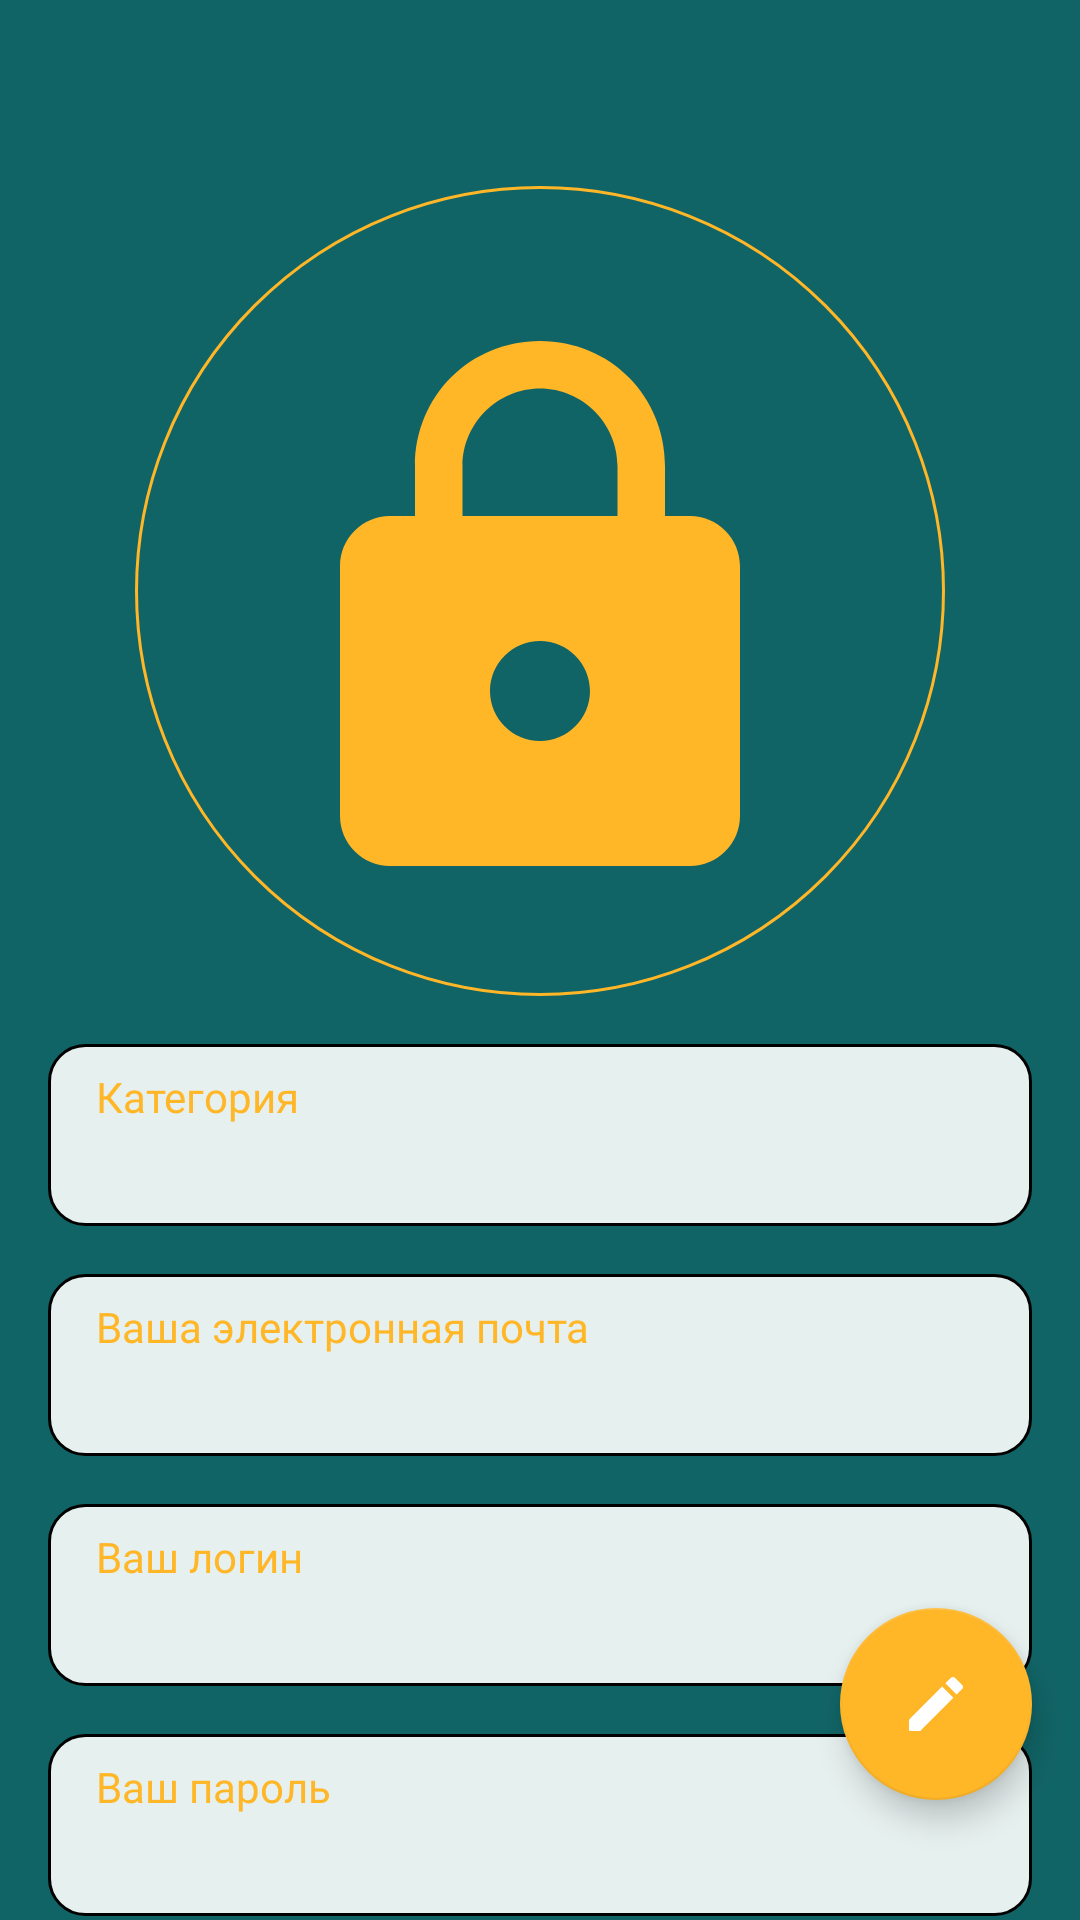

Point at icon controls on the screen. Image size 1080w x 1920h, points as (x=x, y=y).
create: (x=936, y=1704)
